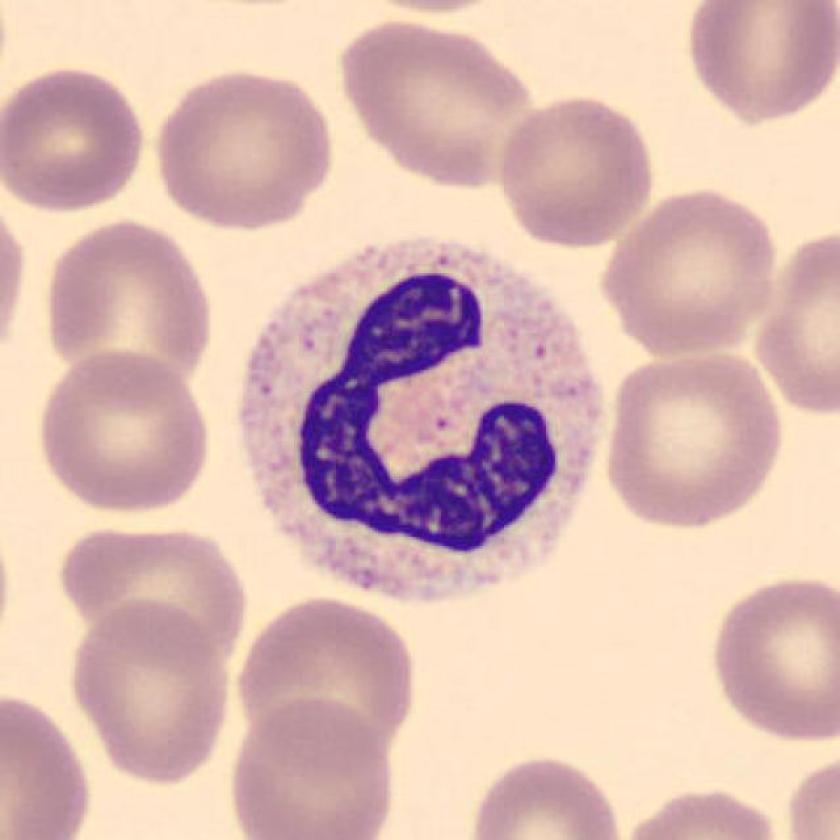neutrophil: (243, 243, 604, 604)
